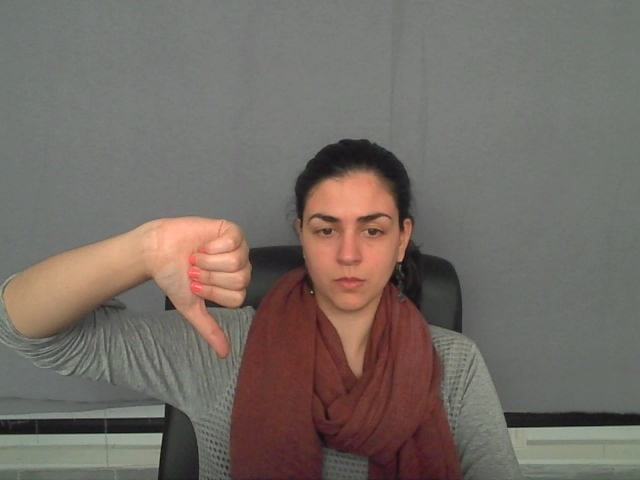down: (116, 196, 294, 380)
